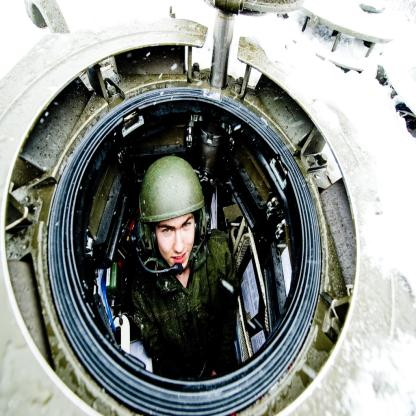Helmet: (137, 152, 204, 284)
